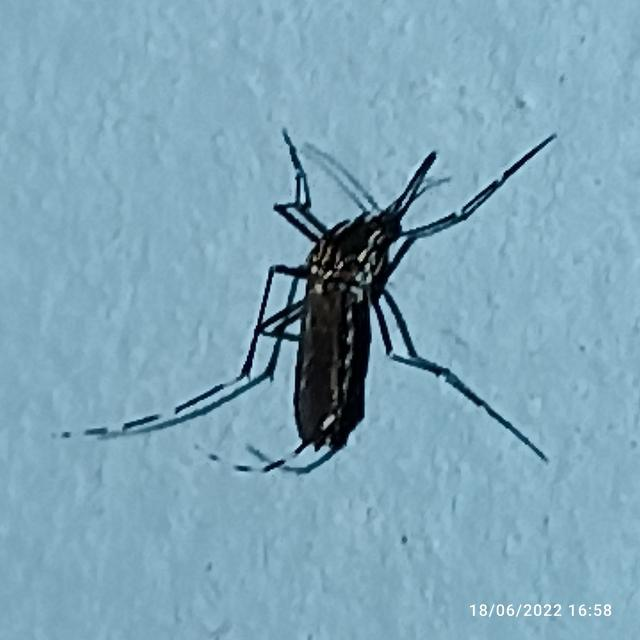albopictus: (64, 96, 586, 505)
